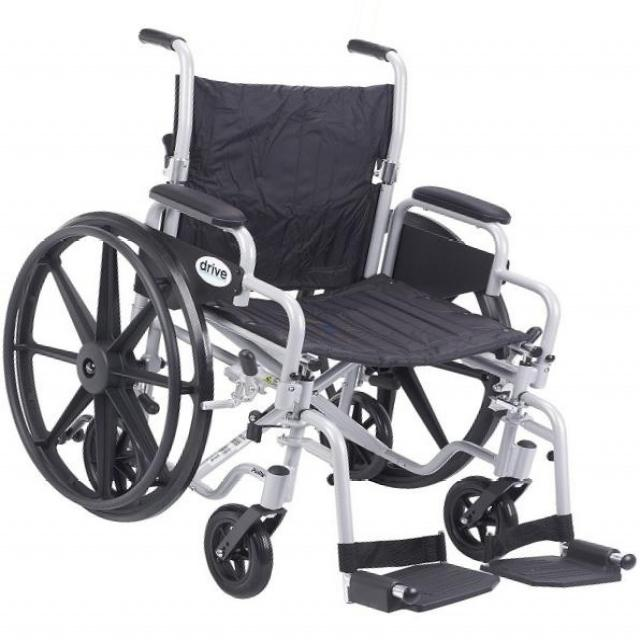wheelchair: (2, 20, 640, 626)
